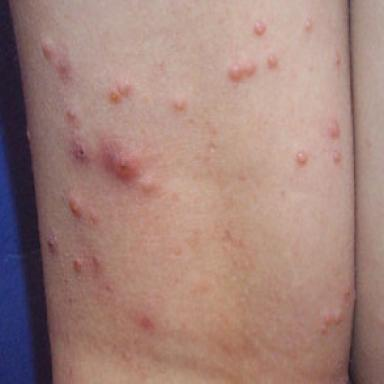Molluscum-Contagiosum: (101, 140, 139, 181), (41, 42, 71, 82), (228, 61, 256, 82), (322, 308, 343, 335), (109, 83, 131, 103), (73, 139, 89, 161), (69, 196, 82, 219), (138, 175, 155, 192), (47, 233, 59, 254), (172, 97, 186, 112), (267, 53, 277, 69), (330, 122, 340, 138), (254, 21, 265, 35), (93, 252, 103, 267), (296, 152, 307, 165), (335, 45, 341, 68), (333, 149, 342, 164), (66, 110, 76, 122), (73, 259, 82, 272), (305, 18, 313, 30)
